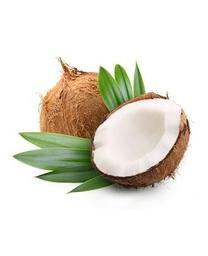coconut: (90, 91, 189, 186), (38, 67, 120, 148)
